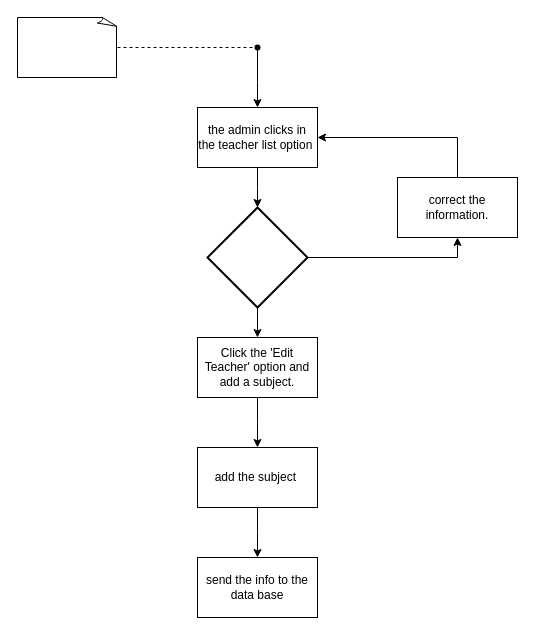
Image size: 535x635. Some labels were removed from this diagram. The shapes that lost their labels are listed below. From the top down, each one's box as (x1, y1, x2, y2) in pixels, then its label:
(16, 16, 118, 78): the admin is log
(206, 206, 308, 308): it is the teacher of the subject available
